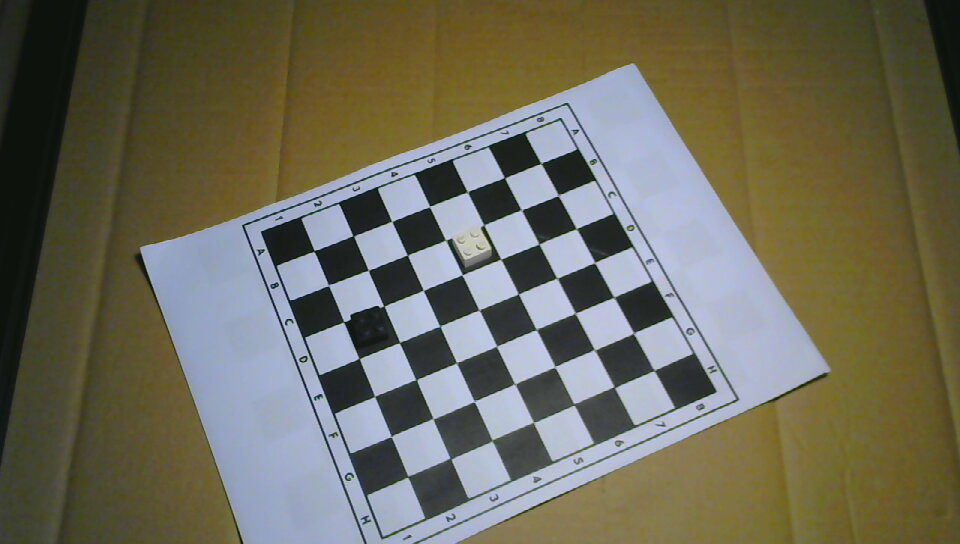bp: (350, 306, 390, 349)
wp: (453, 227, 492, 268)
